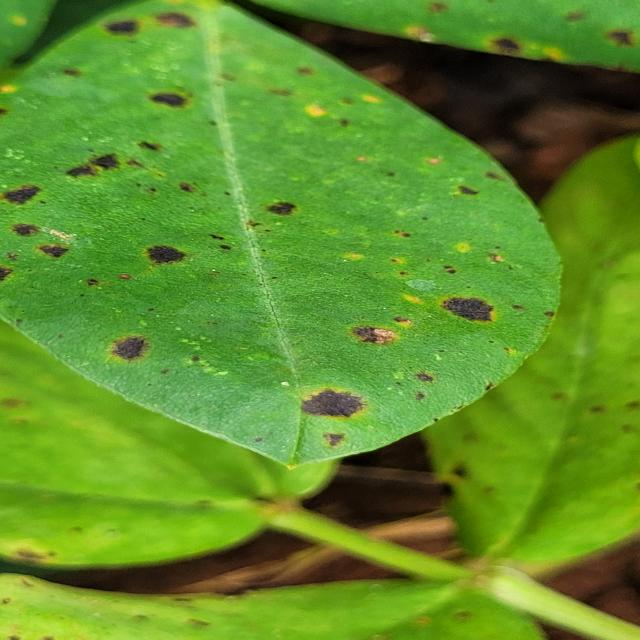Ground nut_tikka leaf spot: (4, 0, 576, 463)
